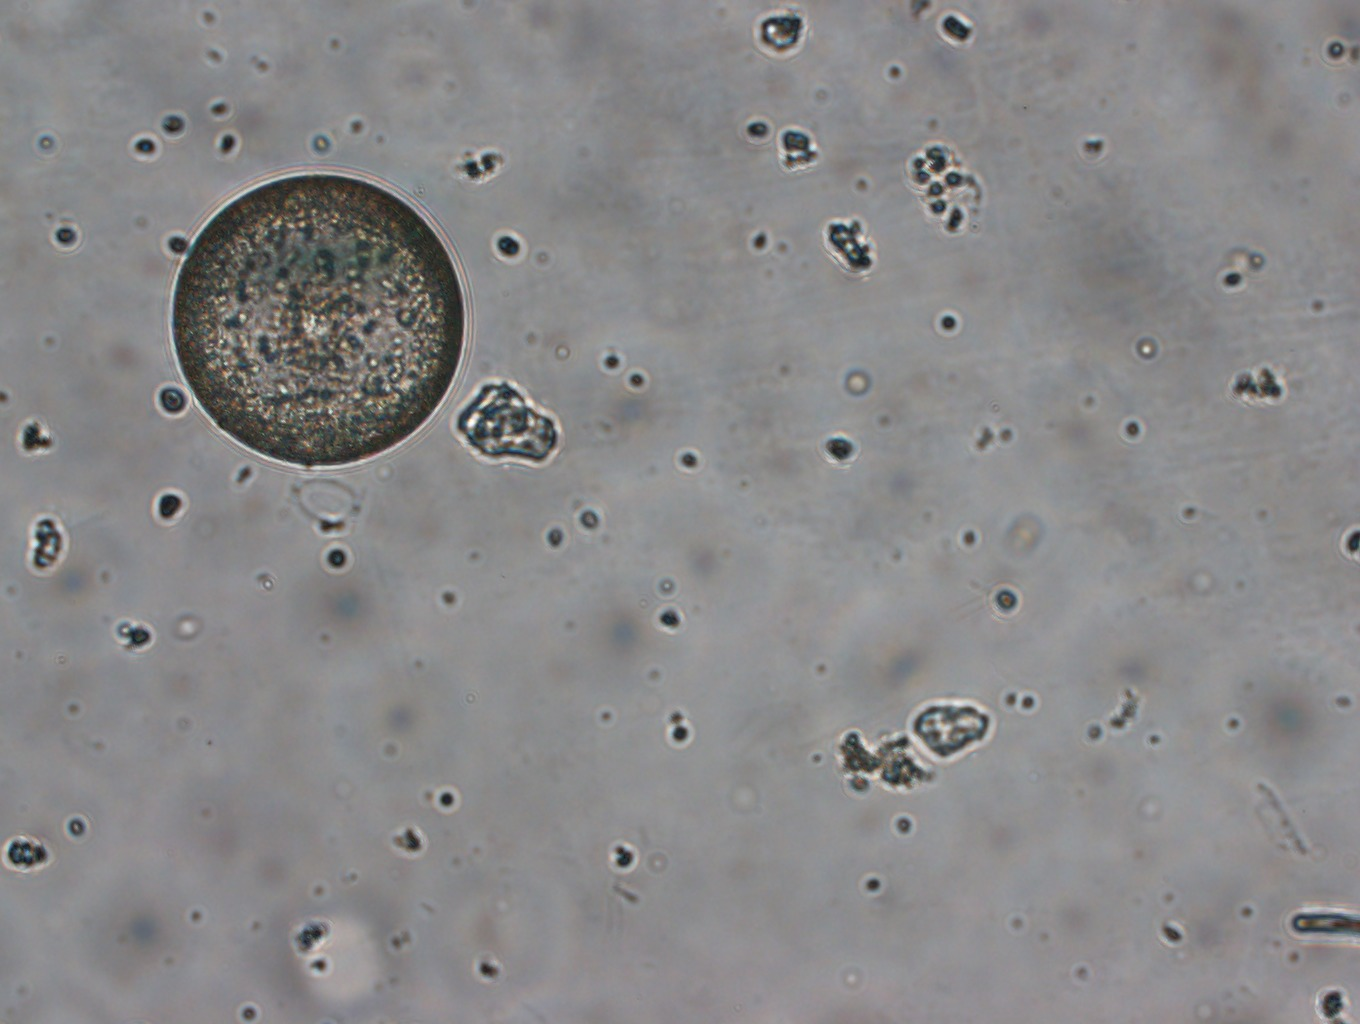coscinodiscus: (167, 169, 470, 482)
